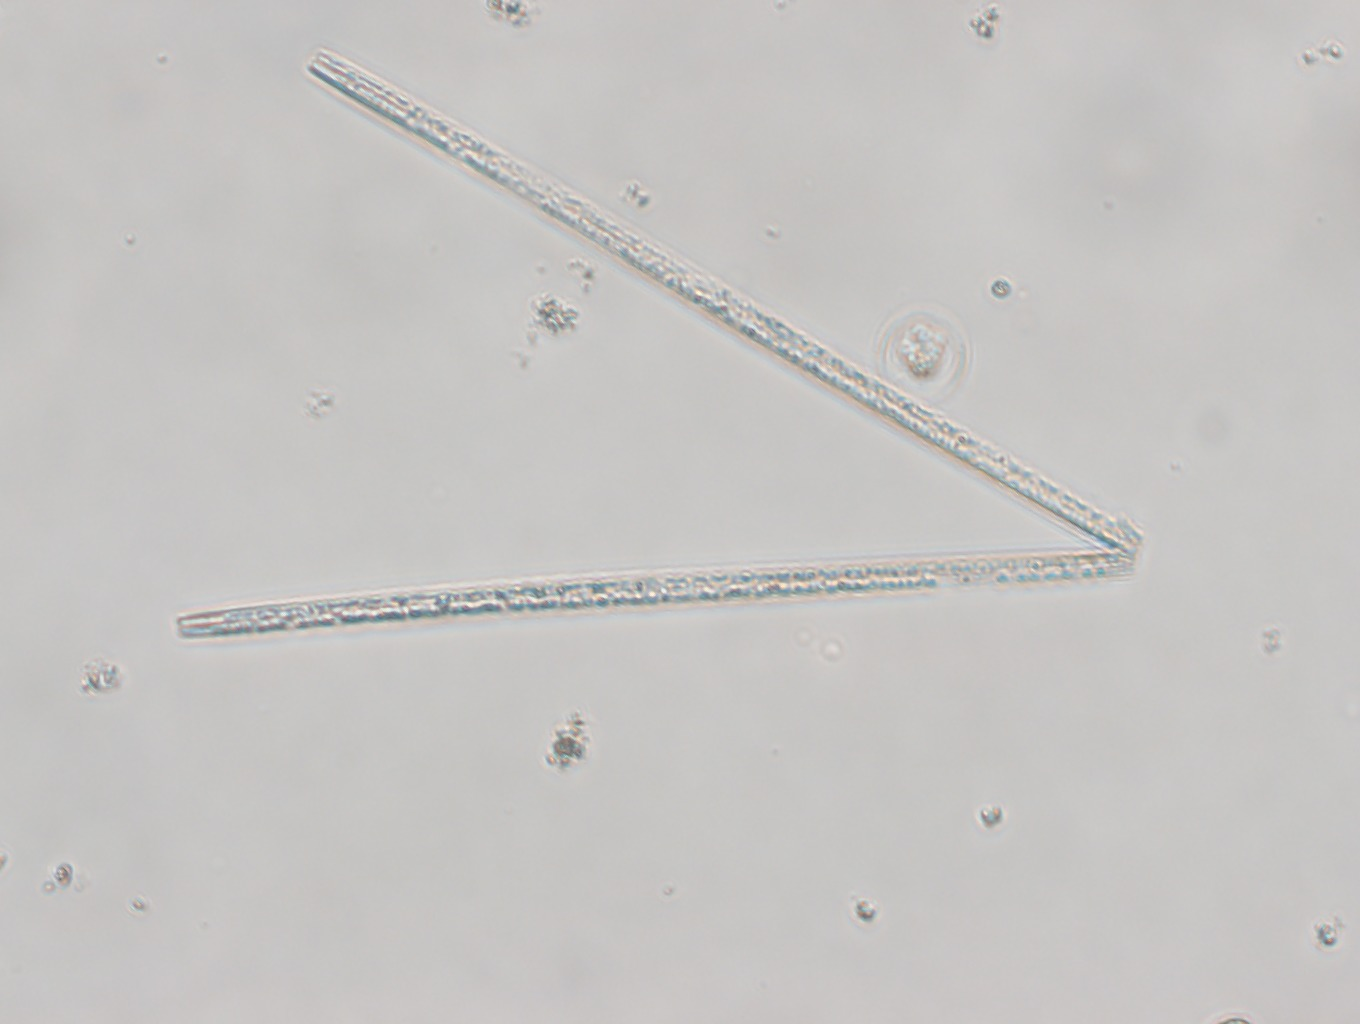thalassionema frauenfeldii: (174, 45, 1144, 642)
